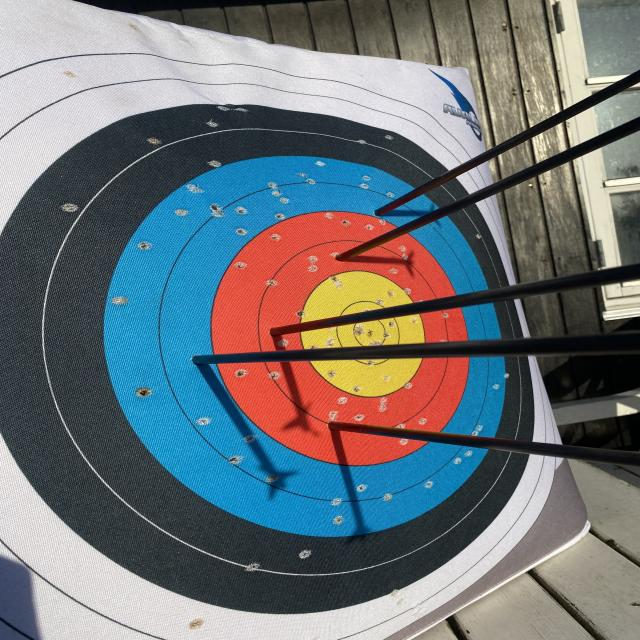Arrow_Blue: (176, 346, 222, 372), (364, 198, 398, 226)
Arrow_Red: (308, 405, 360, 444), (332, 240, 361, 282), (258, 321, 305, 346)
